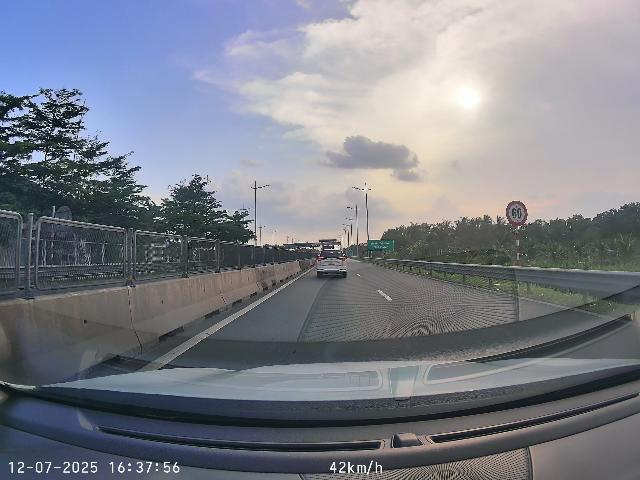127-toc-do-toi-da-60: (506, 200, 528, 227)
